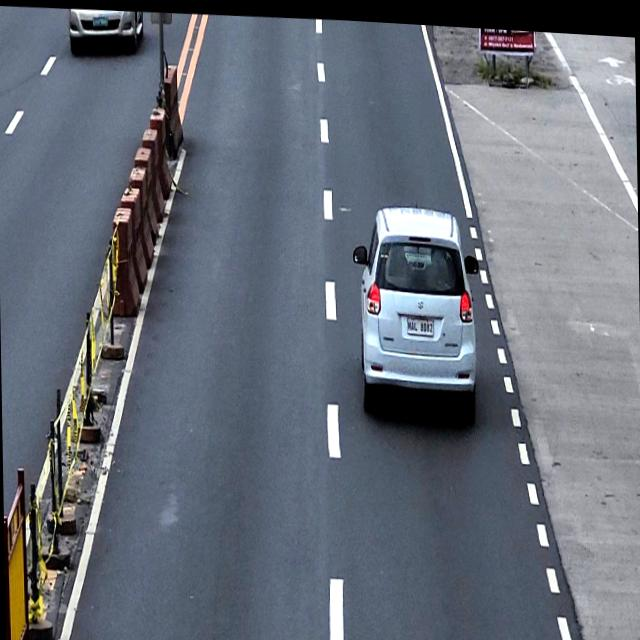Car: (352, 197, 482, 425), (66, 6, 144, 58)
License-Plate: (404, 308, 434, 334), (90, 14, 110, 27)
